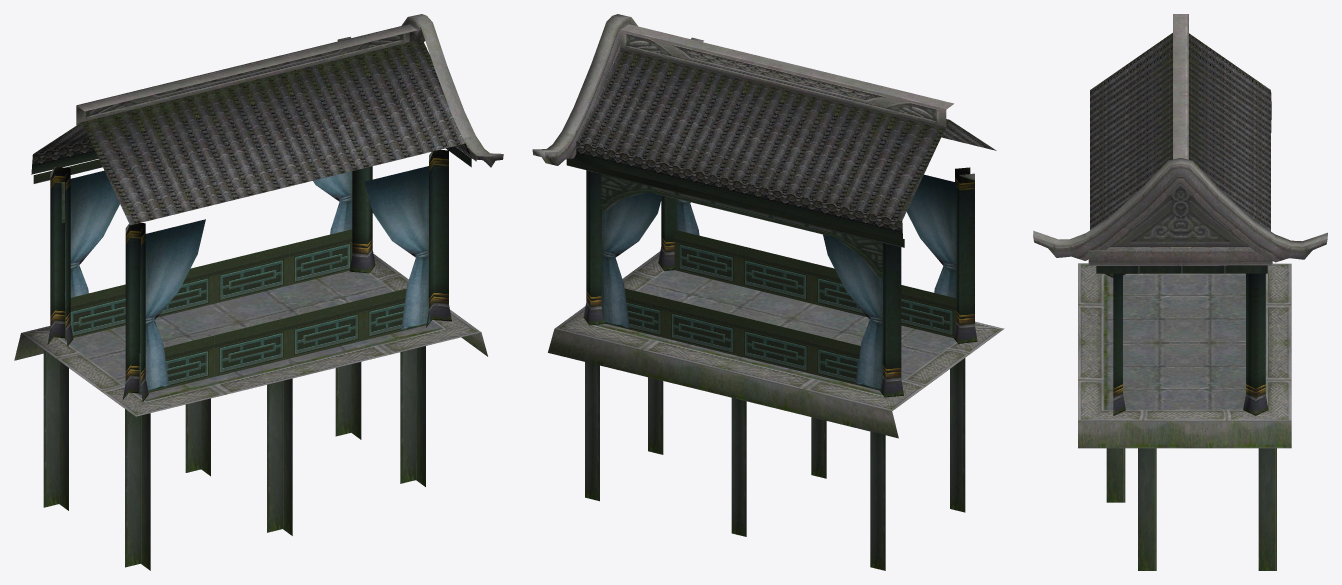
File: SC001Jjianzhu_11.FBX
The picture shows the model from 3 angles, left to right: view 1: azimuth 30°, elevation 25°; view 2: azimuth 150°, elevation 25°; view 3: azimuth 270°, elevation 25°; orthographic projection. The views are drawn at different scales.
Parts seen in each view (by area): view 1: SC001Jjianzhu_11; view 2: SC001Jjianzhu_11; view 3: SC001Jjianzhu_11.
Part boxes in pixels (x1,y1,x2,y2): SC001Jjianzhu_11: (14, 14, 503, 570); SC001Jjianzhu_11: (532, 14, 1004, 570); SC001Jjianzhu_11: (1033, 14, 1327, 570).
Size of the model in its own units: 5.15 by 6.15 by 3.93.
